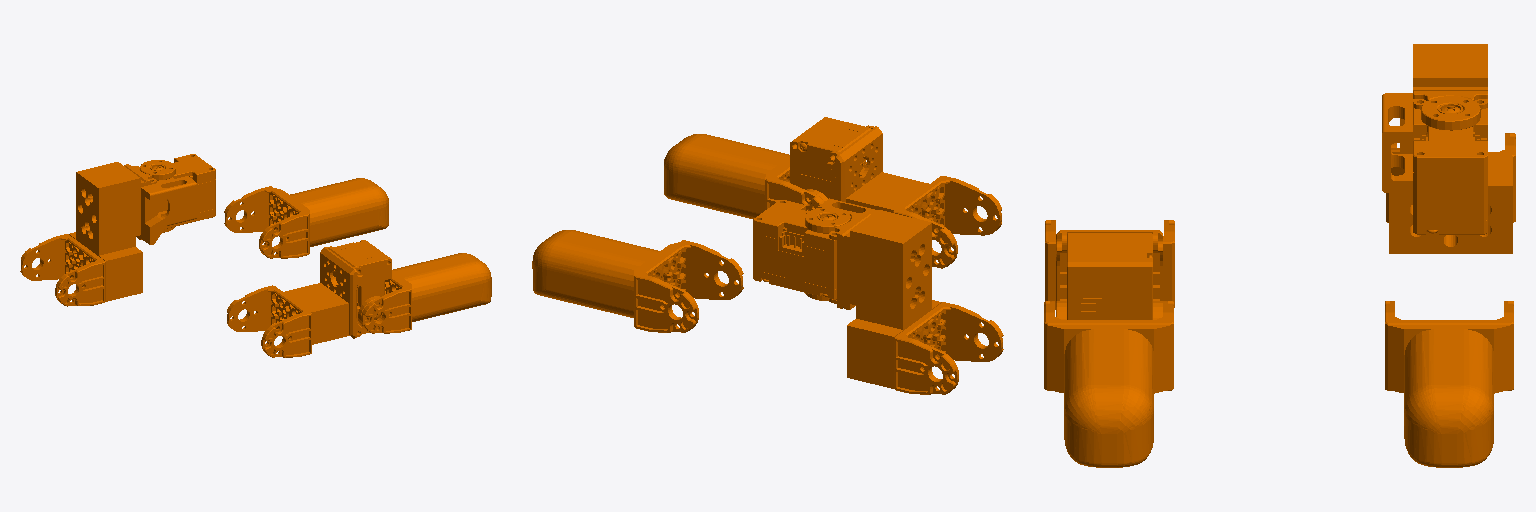
The robot description file, URDF, robot "onshape":
<robot name="onshape">
  <link name="palm_lower">
    <inertial>
      <origin xyz="0.0 0.0 0.0" rpy="0.0 -0.0 0.0"/>
      <mass value="0.237"/>
      <inertia ixx="0.000354094" ixy="-1.193e-06" ixz="-2.445e-06" iyy="0.000260915" iyz="-2.905e-06" izz="0.000529257"/>
    </inertial>
    <visual>
      <geometry>
        <mesh filename="../assets/leap/leap_hand/palm_lower.stl"/>
      </geometry>
      <origin xyz="-0.020095249652862544 0.025757756134899473 -0.034722403578460216" rpy="0.0 -0.0 0.0"/>
      <material name="palm_lower_material">
        <color rgba="0.6039215686274509 0.14901960784313725 0.14901960784313725 1.0"/>
      </material>
    </visual>
    <collision>
      <geometry>
        <mesh filename="../assets/leap/leap_hand/palm_lower.stl"/>
      </geometry>
      <origin xyz="-0.020095249652862544 0.025757756134899473 -0.034722403578460216" rpy="0.0 -0.0 0.0"/>
    </collision>
  </link>
  <link name="mcp_joint_long">
    <inertial>
      <origin xyz="0.0 0.0 0.0" rpy="0.0 -0.0 0.0"/>
      <mass value="0.044"/>
      <inertia ixx="1.1499e-05" ixy="3.049e-06" ixz="1.21e-07" iyy="7.796e-06" iyz="1.12e-07" izz="1.4759e-05"/>
    </inertial>
    <visual>
      <geometry>
        <mesh filename="custom_models/mcp_joint_long.stl"/>
      </geometry>
      <origin xyz="0.008406902261174496 0.0077662438597169954 0.014657354985032912" rpy="1.6375789613221e-15 -1.021047330249102e-30 1.7177968783327987e-31"/>
      <material name="mcp_joint_material">
        <color rgba="0.878 0.467 0.0 1.0"/>
      </material>
    </visual>
    <collision>
      <geometry>
        <mesh filename="custom_models/mcp_joint_long.stl"/>
      </geometry>
      <origin xyz="0.008406902261174496 0.0077662438597169954 0.014657354985032912" rpy="1.6375789613221e-15 -1.021047330249102e-30 1.7177968783327987e-31"/>
    </collision>
  </link>
  <link name="pip">
    <inertial>
      <origin xyz="0.0 0.0 0.0" rpy="0.0 -0.0 0.0"/>
      <mass value="0.032"/>
      <inertia ixx="4.798e-06" ixy="1.2e-08" ixz="4e-09" iyy="2.862e-06" iyz="1.1e-08" izz="4.234e-06"/>
    </inertial>
    <visual>
      <geometry>
        <mesh filename="../assets/leap/leap_hand/pip.stl"/>
      </geometry>
      <origin xyz="0.009643363092271328 0.0002999999999999895 0.0007840340104173765" rpy="-1.5707963267948966 -1.5707963267948963 0.0"/>
      <material name="pip_material">
        <color rgba="0.7490196078431373 0.7490196078431373 0.7490196078431373 1.0"/>
      </material>
    </visual>
    <collision>
      <geometry>
        <mesh filename="../assets/leap/leap_hand/pip.stl"/>
      </geometry>
      <origin xyz="0.009643363092271328 0.0002999999999999895 0.0007840340104173765" rpy="-1.5707963267948966 -1.5707963267948963 0.0"/>
    </collision>
  </link>
  <link name="dip">
    <inertial>
      <origin xyz="0.0 0.0 0.0" rpy="0.0 -0.0 0.0"/>
      <mass value="0.037"/>
      <inertia ixx="5.542e-06" ixy="-6.07e-07" ixz="-1.7e-08" iyy="5.727e-06" iyz="-2.3e-08" izz="6.682e-06"/>
    </inertial>
    <visual>
      <geometry>
        <mesh filename="../assets/leap/leap_hand/dip.stl"/>
      </geometry>
      <origin xyz="0.021133352895225003 -0.00843211914670488 0.00978508816209524" rpy="-3.141592653589793 4.507511124216441e-32 4.439548105392361e-32"/>
      <material name="dip_material">
        <color rgba="0.8666666666666667 0.8666666666666667 0.050980392156862744 1.0"/>
      </material>
    </visual>
    <collision>
      <geometry>
        <mesh filename="../assets/leap/leap_hand/dip.stl"/>
      </geometry>
      <origin xyz="0.021133352895225003 -0.00843211914670488 0.00978508816209524" rpy="-3.141592653589793 4.507511124216441e-32 4.439548105392361e-32"/>
    </collision>
  </link>
  <link name="fingertip_long">
    <inertial>
      <origin xyz="0.0 0.0 0.0" rpy="0.0 -0.0 0.0"/>
      <mass value="0.016"/>
      <inertia ixx="3.368e-06" ixy="1.15e-07" ixz="0.0" iyy="1.556e-06" iyz="0.0" izz="2.863e-06"/>
    </inertial>
    <visual>
      <geometry>
        <mesh filename="custom_models/fingertip_long.stl"/>
      </geometry>
      <origin xyz="0.013286424108533503 -0.006114238386541987 0.014499999999999498" rpy="3.141592653589793 1.1993117970061735e-33 4.439548105392361e-32"/>
      <material name="fingertip_material">
        <color rgba="0.878 0.467 0.0 1.0"/>
      </material>
    </visual>
    <collision>
      <geometry>
        <mesh filename="custom_models/fingertip_long.stl"/>
      </geometry>
      <origin xyz="0.013286424108533503 -0.006114238386541987 0.014499999999999498" rpy="3.141592653589793 1.1993117970061735e-33 4.439548105392361e-32"/>
    </collision>
  </link>
  <link name="pip_4">
    <inertial>
      <origin xyz="0.0 0.0 0.0" rpy="0.0 -0.0 0.0"/>
      <mass value="0.032"/>
      <inertia ixx="4.798e-06" ixy="1.2e-08" ixz="4e-09" iyy="2.862e-06" iyz="1.1e-08" izz="4.234e-06"/>
    </inertial>
    <visual>
      <geometry>
        <mesh filename="../assets/leap/leap_hand/pip.stl"/>
      </geometry>
      <origin xyz="-0.005356636907728671 0.0002999999999999999 0.0007840340104173782" rpy="-1.5707963267948966 -1.5707963267948963 0.0"/>
      <material name="pip_material">
        <color rgba="0.7490196078431373 0.7490196078431373 0.7490196078431373 1.0"/>
      </material>
    </visual>
    <collision>
      <geometry>
        <mesh filename="../assets/leap/leap_hand/pip.stl"/>
      </geometry>
      <origin xyz="-0.005356636907728671 0.0002999999999999999 0.0007840340104173782" rpy="-1.5707963267948966 -1.5707963267948963 0.0"/>
    </collision>
  </link>
  <link name="thumb_pip">
    <inertial>
      <origin xyz="0.0 0.0 0.0" rpy="0.0 -0.0 0.0"/>
      <mass value="0.003"/>
      <inertia ixx="5.93e-07" ixy="0.0" ixz="0.0" iyy="5.49e-07" iyz="0.0" izz="2.24e-07"/>
    </inertial>
    <visual>
      <geometry>
        <mesh filename="../assets/leap/leap_hand/thumb_pip.stl"/>
      </geometry>
      <origin xyz="0.011961920770611187 -5.30825383648903e-16 -0.0158526489566642" rpy="1.5707963267948966 1.6050198443300153e-46 -3.9204996250525193e-59"/>
      <material name="thumb_pip_material">
        <color rgba="0.8666666666666667 0.8666666666666667 0.050980392156862744 1.0"/>
      </material>
    </visual>
    <collision>
      <geometry>
        <mesh filename="../assets/leap/leap_hand/thumb_pip.stl"/>
      </geometry>
      <origin xyz="0.011961920770611187 -5.30825383648903e-16 -0.0158526489566642" rpy="1.5707963267948966 1.6050198443300153e-46 -3.9204996250525193e-59"/>
    </collision>
  </link>
  <link name="thumb_dip">
    <inertial>
      <origin xyz="0.0 0.0 0.0" rpy="0.0 -0.0 0.0"/>
      <mass value="0.038"/>
      <inertia ixx="8.474e-06" ixy="2.41e-07" ixz="2.6e-08" iyy="3.841e-06" iyz="2.5e-08" izz="7.679e-06"/>
    </inertial>
    <visual>
      <geometry>
        <mesh filename="../assets/leap/leap_hand/thumb_dip.stl"/>
      </geometry>
      <origin xyz="0.043968715707239175 0.0579529529737092 -0.008628676449369476" rpy="1.94289029309401e-16 3.27515792264422e-15 1.112375852965736e-46"/>
      <material name="thumb_dip_material">
        <color rgba="0.8666666666666667 0.8666666666666667 0.050980392156862744 1.0"/>
      </material>
    </visual>
    <collision>
      <geometry>
        <mesh filename="../assets/leap/leap_hand/thumb_dip.stl"/>
      </geometry>
      <origin xyz="0.043968715707239175 0.0579529529737092 -0.008628676449369476" rpy="1.94289029309401e-16 3.27515792264422e-15 1.112375852965736e-46"/>
    </collision>
  </link>
  <link name="thumb_fingertip">
    <inertial>
      <origin xyz="0.0 0.0 0.0" rpy="0.0 -0.0 0.0"/>
      <mass value="0.049"/>
      <inertia ixx="2.0372e-05" ixy="-4.89e-07" ixz="-3e-08" iyy="4.336e-06" iyz="-9.7e-08" izz="1.9845e-05"/>
    </inertial>
    <visual>
      <geometry>
        <mesh filename="../assets/leap/leap_hand/thumb_fingertip.stl"/>
      </geometry>
      <origin xyz="0.06255953846266739 0.07845968291139699 0.048992911807332215" rpy="4.379057701015637e-47 -3.33066907387547e-16 1.2042408677791935e-46"/>
      <material name="thumb_fingertip_material">
        <color rgba="0.6039215686274509 0.14901960784313725 0.14901960784313725 1.0"/>
      </material>
    </visual>
    <collision>
      <geometry>
        <mesh filename="../assets/leap/leap_hand/thumb_fingertip.stl"/>
      </geometry>
      <origin xyz="0.06255953846266739 0.07845968291139699 0.048992911807332215" rpy="4.379057701015637e-47 -3.33066907387547e-16 1.2042408677791935e-46"/>
    </collision>
  </link>
  <link name="mcp_joint_2">
    <inertial>
      <origin xyz="0.0 0.0 0.0" rpy="0.0 -0.0 0.0"/>
      <mass value="0.044"/>
      <inertia ixx="1.1499e-05" ixy="3.049e-06" ixz="1.21e-07" iyy="7.796e-06" iyz="1.12e-07" izz="1.4759e-05"/>
    </inertial>
    <visual>
      <geometry>
        <mesh filename="../assets/leap/leap_hand/mcp_joint.stl"/>
      </geometry>
      <origin xyz="0.008406902261174496 0.0077662438597169954 0.014657354985032914" rpy="1.6375789613221e-15 -1.0076465469034e-30 2.1209300131419907e-61"/>
      <material name="mcp_joint_material">
        <color rgba="0.8666666666666667 0.8666666666666667 0.050980392156862744 1.0"/>
      </material>
    </visual>
    <collision>
      <geometry>
        <mesh filename="../assets/leap/leap_hand/mcp_joint.stl"/>
      </geometry>
      <origin xyz="0.008406902261174496 0.0077662438597169954 0.014657354985032914" rpy="1.6375789613221e-15 -1.0076465469034e-30 2.1209300131419907e-61"/>
    </collision>
  </link>
  <link name="pip_2">
    <inertial>
      <origin xyz="0.0 0.0 0.0" rpy="0.0 -0.0 0.0"/>
      <mass value="0.032"/>
      <inertia ixx="4.798e-06" ixy="1.2e-08" ixz="4e-09" iyy="2.862e-06" iyz="1.1e-08" izz="4.234e-06"/>
    </inertial>
    <visual>
      <geometry>
        <mesh filename="../assets/leap/leap_hand/pip.stl"/>
      </geometry>
      <origin xyz="0.009643363092271328 0.0002999999999999947 0.0007840340104173765" rpy="-1.5707963267948966 -1.5707963267948963 0.0"/>
      <material name="pip_material">
        <color rgba="0.7490196078431373 0.7490196078431373 0.7490196078431373 1.0"/>
      </material>
    </visual>
    <collision>
      <geometry>
        <mesh filename="../assets/leap/leap_hand/pip.stl"/>
      </geometry>
      <origin xyz="0.009643363092271328 0.0002999999999999947 0.0007840340104173765" rpy="-1.5707963267948966 -1.5707963267948963 0.0"/>
    </collision>
  </link>
  <link name="dip_2">
    <inertial>
      <origin xyz="0.0 0.0 0.0" rpy="0.0 -0.0 0.0"/>
      <mass value="0.037"/>
      <inertia ixx="5.542e-06" ixy="-6.07e-07" ixz="-1.7e-08" iyy="5.727e-06" iyz="-2.3e-08" izz="6.682e-06"/>
    </inertial>
    <visual>
      <geometry>
        <mesh filename="../assets/leap/leap_hand/dip.stl"/>
      </geometry>
      <origin xyz="0.021133352895225003 -0.008432119146704865 0.009785088162095237" rpy="-3.141592653589793 2.1146933785271956e-32 1.4408183216511869e-31"/>
      <material name="dip_material">
        <color rgba="0.8666666666666667 0.8666666666666667 0.050980392156862744 1.0"/>
      </material>
    </visual>
    <collision>
      <geometry>
        <mesh filename="../assets/leap/leap_hand/dip.stl"/>
      </geometry>
      <origin xyz="0.021133352895225003 -0.008432119146704865 0.009785088162095237" rpy="-3.141592653589793 2.1146933785271956e-32 1.4408183216511869e-31"/>
    </collision>
  </link>
  <link name="fingertip_2">
    <inertial>
      <origin xyz="0.0 0.0 0.0" rpy="0.0 -0.0 0.0"/>
      <mass value="0.016"/>
      <inertia ixx="3.368e-06" ixy="1.15e-07" ixz="0.0" iyy="1.556e-06" iyz="0.0" izz="2.863e-06"/>
    </inertial>
    <visual>
      <geometry>
        <mesh filename="../assets/leap/leap_hand/fingertip.stl"/>
      </geometry>
      <origin xyz="0.013286424108533496 -0.006114238386542001 0.014499999999999496" rpy="3.141592653589793 -4.317959788283594e-33 1.4408183216511869e-31"/>
      <material name="fingertip_material">
        <color rgba="0.8666666666666667 0.8666666666666667 0.050980392156862744 1.0"/>
      </material>
    </visual>
    <collision>
      <geometry>
        <mesh filename="../assets/leap/leap_hand/fingertip.stl"/>
      </geometry>
      <origin xyz="0.013286424108533496 -0.006114238386542001 0.014499999999999496" rpy="3.141592653589793 -4.317959788283594e-33 1.4408183216511869e-31"/>
    </collision>
  </link>
  <link name="mcp_joint_3">
    <inertial>
      <origin xyz="0.0 0.0 0.0" rpy="0.0 -0.0 0.0"/>
      <mass value="0.044"/>
      <inertia ixx="1.1499e-05" ixy="3.049e-06" ixz="1.21e-07" iyy="7.796e-06" iyz="1.12e-07" izz="1.4759e-05"/>
    </inertial>
    <visual>
      <geometry>
        <mesh filename="../assets/leap/leap_hand/mcp_joint.stl"/>
      </geometry>
      <origin xyz="0.0084069022611745 0.007766243859716996 0.014657354985032914" rpy="1.6375789613221e-15 -1.0059504988632627e-30 5.729641584552035e-32"/>
      <material name="mcp_joint_material">
        <color rgba="0.8666666666666667 0.8666666666666667 0.050980392156862744 1.0"/>
      </material>
    </visual>
    <collision>
      <geometry>
        <mesh filename="../assets/leap/leap_hand/mcp_joint.stl"/>
      </geometry>
      <origin xyz="0.0084069022611745 0.007766243859716996 0.014657354985032914" rpy="1.6375789613221e-15 -1.0059504988632627e-30 5.729641584552035e-32"/>
    </collision>
  </link>
  <link name="pip_3">
    <inertial>
      <origin xyz="0.0 0.0 0.0" rpy="0.0 -0.0 0.0"/>
      <mass value="0.032"/>
      <inertia ixx="4.798e-06" ixy="1.2e-08" ixz="4e-09" iyy="2.862e-06" iyz="1.1e-08" izz="4.234e-06"/>
    </inertial>
    <visual>
      <geometry>
        <mesh filename="../assets/leap/leap_hand/pip.stl"/>
      </geometry>
      <origin xyz="0.009643363092271331 0.00029999999999998084 0.0007840340104173765" rpy="-1.5707963267948966 -1.5707963267948963 0.0"/>
      <material name="pip_material">
        <color rgba="0.7490196078431373 0.7490196078431373 0.7490196078431373 1.0"/>
      </material>
    </visual>
    <collision>
      <geometry>
        <mesh filename="../assets/leap/leap_hand/pip.stl"/>
      </geometry>
      <origin xyz="0.009643363092271331 0.00029999999999998084 0.0007840340104173765" rpy="-1.5707963267948966 -1.5707963267948963 0.0"/>
    </collision>
  </link>
  <link name="dip_3_long">
    <inertial>
      <origin xyz="0.0 0.0 0.0" rpy="0.0 -0.0 0.0"/>
      <mass value="0.037"/>
      <inertia ixx="5.542e-06" ixy="-6.07e-07" ixz="-1.7e-08" iyy="5.727e-06" iyz="-2.3e-08" izz="6.682e-06"/>
    </inertial>
    <visual>
      <geometry>
        <mesh filename="custom_models/dip_long.stl"/>
      </geometry>
      <origin xyz="0.021133352895225006 -0.008432119146704865 0.009785088162095237" rpy="-3.141592653589793 -1.4095651113919093e-33 1.5565411607615035e-32"/>
      <material name="dip_material">
        <color rgba="0.878 0.467 0.0 1.0"/>
      </material>
    </visual>
    <collision>
      <geometry>
        <mesh filename="custom_models/dip_long.stl"/>
      </geometry>
      <origin xyz="0.021133352895225006 -0.008432119146704865 0.009785088162095237" rpy="-3.141592653589793 -1.4095651113919093e-33 1.5565411607615035e-32"/>
    </collision>
  </link>
  <link name="fingertip_3_long">
    <inertial>
      <origin xyz="0.0 0.0 0.0" rpy="0.0 -0.0 0.0"/>
      <mass value="0.016"/>
      <inertia ixx="3.368e-06" ixy="1.15e-07" ixz="0.0" iyy="1.556e-06" iyz="0.0" izz="2.863e-06"/>
    </inertial>
    <visual>
      <geometry>
        <mesh filename="custom_models/fingertip_long.stl"/>
      </geometry>
      <origin xyz="0.013286424108533501 -0.006114238386541987 0.0144999999999995" rpy="3.141592653589793 8.61707169505754e-33 1.5565411607615035e-32"/>
      <material name="fingertip_material">
        <color rgba="0.878 0.467 0.0 1.0"/>
      </material>
    </visual>
    <collision>
      <geometry>
        <mesh filename="custom_models/fingertip_long.stl"/>
      </geometry>
      <origin xyz="0.013286424108533501 -0.006114238386541987 0.0144999999999995" rpy="3.141592653589793 8.61707169505754e-33 1.5565411607615035e-32"/>
    </collision>
  </link>
  <joint name="1" type="revolute">
    <parent link="palm_lower"/>
    <child link="mcp_joint_long"/>
    <origin xyz="-0.007095249652862546 0.023057756134899472 -0.01872240357846022" rpy="1.570796326794895 1.5707963267948946 0.0"/>
    <axis xyz="0.0 0.0 -1.0"/>
    <limit effort="0.95" velocity="8.48" lower="-0.314" upper="2.23"/>
  </joint>
  <joint name="0" type="revolute">
    <parent link="mcp_joint_long"/>
    <child link="pip"/>
    <origin xyz="-0.012200000000000007713 0.053099999999999994982 0.014500000000000000736" rpy="-1.5707963267948966 -1.0065212660796337e-15 1.5707963267948943"/>
    <axis xyz="0.0 0.0 -1.0"/>
    <limit effort="0.95" velocity="8.48" lower="-1.047" upper="1.047"/>
  </joint>
  <joint name="2" type="revolute">
    <parent link="pip"/>
    <child link="dip"/>
    <origin xyz="0.014999999999999968 0.014299999999999905 -0.012999999999999824" rpy="1.570796326794896 -1.5707963267948963 0.0"/>
    <axis xyz="0.0 0.0 -1.0"/>
    <limit effort="0.95" velocity="8.48" lower="-0.506" upper="1.885"/>
  </joint>
  <joint name="3" type="revolute">
    <parent link="dip"/>
    <child link="fingertip_long"/>
    <origin xyz="-4.088058249557269e-09 -0.03610000421036737 0.0002000000000000786" rpy="4.5935029425113685e-17 -2.8730071914463795e-16 4.439548105392361e-32"/>
    <axis xyz="0.0 0.0 -1.0"/>
    <limit effort="0.95" velocity="8.48" lower="-0.366" upper="2.042"/>
  </joint>
  <joint name="12" type="revolute">
    <parent link="palm_lower"/>
    <child link="pip_4"/>
    <origin xyz="-0.06939524965286253 -0.0012422438651005258 -0.021622403578460216" rpy="-8.238176646493942e-17 1.5707963267948957 0.0"/>
    <axis xyz="0.0 0.0 -1.0"/>
    <limit effort="0.95" velocity="8.48" lower="-0.349" upper="2.094"/>
  </joint>
  <joint name="13" type="revolute">
    <parent link="pip_4"/>
    <child link="thumb_pip"/>
    <origin xyz="-2.7755575615628914e-17 0.014300000000000005 -0.013000000000000012" rpy="1.570796326794896 -1.5707963267948963 0.0"/>
    <axis xyz="0.0 0.0 -1.0"/>
    <limit effort="0.95" velocity="8.48" lower="-0.47" upper="2.443"/>
  </joint>
  <joint name="14" type="revolute">
    <parent link="thumb_pip"/>
    <child link="thumb_dip"/>
    <origin xyz="0.0 0.014499999999999966 -0.017000000000000053" rpy="-1.5707963267948966 1.6050198443300131e-46 -1.9721522630516625e-31"/>
    <axis xyz="0.0 0.0 -1.0"/>
    <limit effort="0.95" velocity="8.48" lower="-1.2" upper="1.9"/>
  </joint>
  <joint name="15" type="revolute">
    <parent link="thumb_dip"/>
    <child link="thumb_fingertip"/>
    <origin xyz="-1.249000902703301e-16 0.046599999999999864 0.0001999999999999771" rpy="1.506395849149178e-44 5.423418723393526e-31 3.141592653589793"/>
    <axis xyz="0.0 0.0 -1.0"/>
    <limit effort="0.95" velocity="8.48" lower="-1.34" upper="1.88"/>
  </joint>
  <joint name="5" type="revolute">
    <parent link="palm_lower"/>
    <child link="mcp_joint_2"/>
    <origin xyz="-0.007095249652862546 -0.022392243865100525 -0.01872240357846022" rpy="1.570796326794895 1.5707963267948946 0.0"/>
    <axis xyz="0.0 0.0 -1.0"/>
    <limit effort="0.95" velocity="8.48" lower="-0.314" upper="2.23"/>
  </joint>
  <joint name="4" type="revolute">
    <parent link="mcp_joint_2"/>
    <child link="pip_2"/>
    <origin xyz="-0.012200000000000008 0.038099999999999995 0.0145" rpy="-1.5707963267948966 -1.0065212660796337e-15 1.5707963267948943"/>
    <axis xyz="0.0 0.0 -1.0"/>
    <limit effort="0.95" velocity="8.48" lower="-1.047" upper="1.047"/>
  </joint>
  <joint name="6" type="revolute">
    <parent link="pip_2"/>
    <child link="dip_2"/>
    <origin xyz="0.014999999999999968 0.014299999999999905 -0.012999999999999824" rpy="1.570796326794896 -1.5707963267948963 0.0"/>
    <axis xyz="0.0 0.0 -1.0"/>
    <limit effort="0.95" velocity="8.48" lower="-0.506" upper="1.885"/>
  </joint>
  <joint name="7" type="revolute">
    <parent link="dip_2"/>
    <child link="fingertip_2"/>
    <origin xyz="-4.088058249557269e-09 -0.03610000421036737 0.0002000000000000786" rpy="4.5935029425113685e-17 -2.8730071914463795e-16 4.439548105392361e-32"/>
    <axis xyz="0.0 0.0 -1.0"/>
    <limit effort="0.95" velocity="8.48" lower="-0.366" upper="2.042"/>
  </joint>
  <joint name="9" type="revolute">
    <parent link="palm_lower"/>
    <child link="mcp_joint_3"/>
    <origin xyz="-0.007095249652862546 -0.06784224386510052 -0.01872240357846022" rpy="1.570796326794895 1.5707963267948946 0.0"/>
    <axis xyz="0.0 0.0 -1.0"/>
    <limit effort="0.95" velocity="8.48" lower="-0.314" upper="2.23"/>
  </joint>
  <joint name="8" type="revolute">
    <parent link="mcp_joint_3"/>
    <child link="pip_3"/>
    <origin xyz="-0.012200000000000008 0.038099999999999995 0.0145" rpy="-1.5707963267948966 -1.0065212660796337e-15 1.5707963267948943"/>
    <axis xyz="0.0 0.0 -1.0"/>
    <limit effort="0.95" velocity="8.48" lower="-1.047" upper="1.047"/>
  </joint>
  <joint name="10" type="revolute">
    <parent link="pip_3"/>
    <child link="dip_3_long"/>
    <origin xyz="0.014999999999999968 0.014299999999999905 -0.012999999999999824" rpy="1.570796326794896 -1.5707963267948963 0.0"/>
    <axis xyz="0.0 0.0 -1.0"/>
    <limit effort="0.95" velocity="8.48" lower="-0.506" upper="1.885"/>
  </joint>
  <joint name="11" type="revolute">
    <parent link="dip_3_long"/>
    <child link="fingertip_3_long"/>
    <origin xyz="-4.0880582495572692636e-09 -0.051100004210367367397 0.00020000000000007858714" rpy="4.5935029425113685e-17 -2.8730071914463795e-16 4.439548105392361e-32"/>
    <axis xyz="0.0 0.0 -1.0"/>
    <limit effort="0.95" velocity="8.48" lower="-0.366" upper="2.042"/>
  </joint>
</robot>

--- What the picture shows (computed from the rendered views, not written in the file) ---
Views: 3 orthographic renders of the robot side by side, from view 1: azimuth 30°, elevation 25°; view 2: azimuth 150°, elevation 25°; view 3: azimuth 270°, elevation 25°.
Robot: onshape — 17 links, 16 joints (16 revolute); root link palm_lower; default pose: all joints at 0.
Visible links, largest first — view 1: mcp_joint_long, dip_3_long, fingertip_long, fingertip_3_long; view 2: mcp_joint_long, fingertip_long, dip_3_long, fingertip_3_long; view 3: mcp_joint_long, fingertip_3_long, fingertip_long, dip_3_long.
Link boxes in pixels (<box>): mcp_joint_long: <box>20,154,215,306</box>; dip_3_long: <box>227,240,391,357</box>; fingertip_long: <box>224,178,388,258</box>; fingertip_3_long: <box>361,253,491,333</box>; mcp_joint_long: <box>753,198,1003,394</box>; fingertip_long: <box>532,230,743,332</box>; dip_3_long: <box>790,117,1001,268</box>; fingertip_3_long: <box>664,134,823,218</box>; mcp_joint_long: <box>1382,44,1515,253</box>; fingertip_3_long: <box>1044,301,1173,467</box>; fingertip_long: <box>1385,301,1513,467</box>; dip_3_long: <box>1045,220,1174,319</box>.
Bounding box of the posed robot: 0.1766 × 0.1259 × 0.0549 m (x, y, z).
Meshes: 11 distinct files referenced, 4 mesh visuals loaded (3 binary STL); not drawn: 13 (reference not matched to a file when rendering).